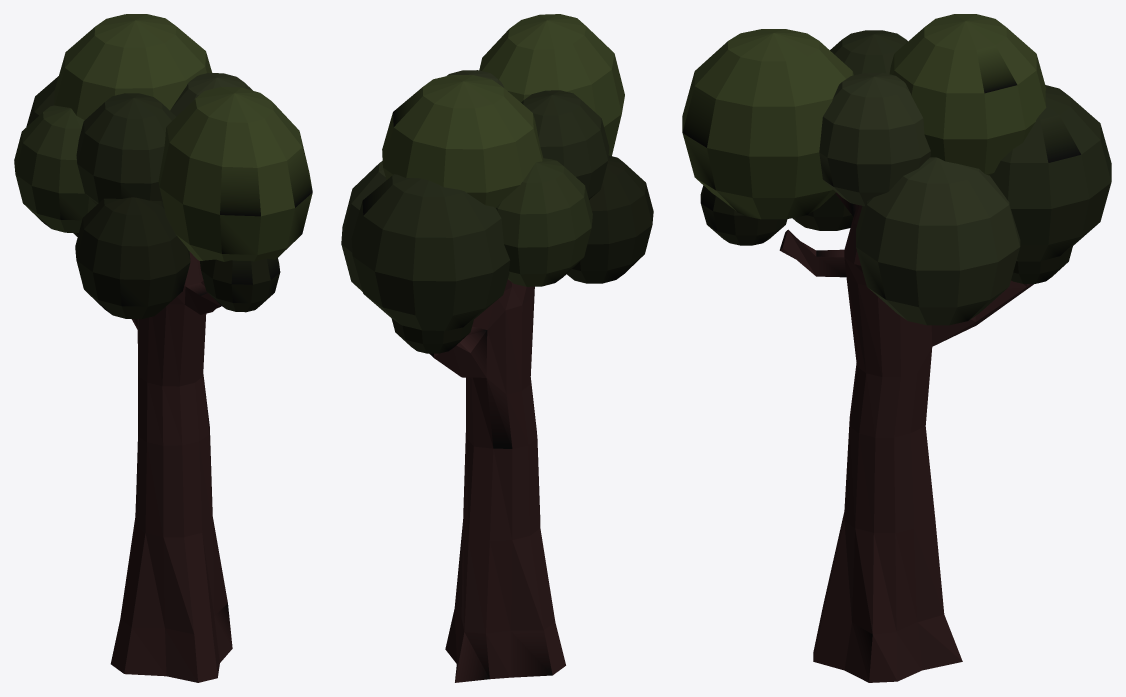
Rendered from oak_tall.gltf.
3 views of the same model, side by side, from view 1: azimuth 30°, elevation 25°; view 2: azimuth 150°, elevation 25°; view 3: azimuth 270°, elevation 25° (orthographic). The views are drawn at different scales.
Parts seen in each view (by area): view 1: OakTall; view 2: OakTall; view 3: OakTall.
Boxes of the visible parts, <box> form: OakTall: <box>14,14,312,682</box>; OakTall: <box>341,14,653,682</box>; OakTall: <box>682,14,1111,682</box>.
Size of the model in its own units: 1.47 by 3.55 by 2.17.
1 material, 1 textured.
